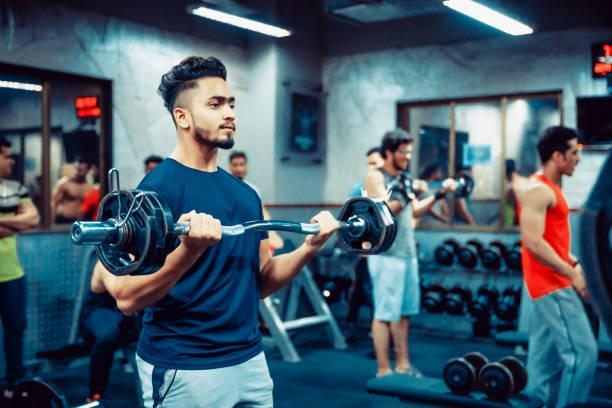Pessoa: (91, 57, 338, 407), (516, 126, 597, 406), (365, 129, 455, 376), (0, 137, 38, 398), (79, 289, 138, 401), (51, 157, 93, 223), (345, 256, 371, 341), (229, 151, 260, 197), (80, 164, 100, 220), (415, 200, 448, 224), (366, 146, 383, 170), (144, 154, 162, 173)
